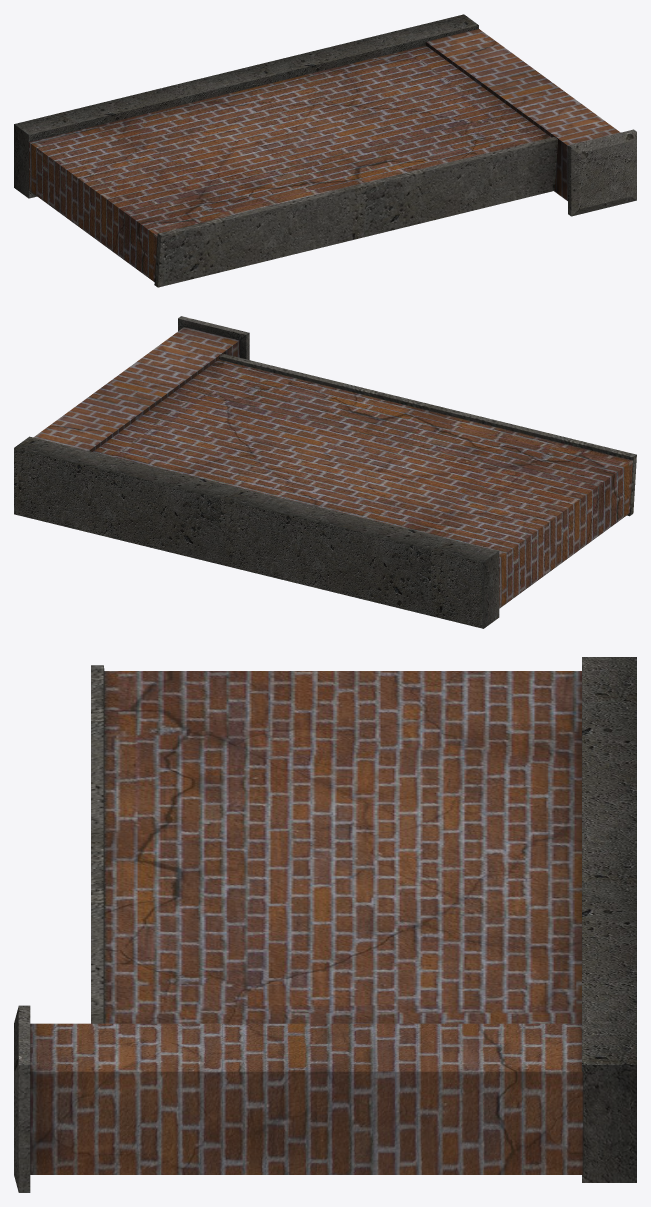
File: 10061_Wall_SG_V2_Iterations-2.obj
The picture shows the model from 3 angles, top to bottom: view 1: azimuth 30°, elevation 25°; view 2: azimuth 150°, elevation 25°; view 3: azimuth 270°, elevation 25°; orthographic projection. The views are drawn at different scales.
Visible parts, largest first — view 1: 10061_Wall_SG_V1; view 2: 10061_Wall_SG_V1; view 3: 10061_Wall_SG_V1.
Part boxes in pixels (x1,y1,x2,y2): 10061_Wall_SG_V1: [14, 14, 636, 287]; 10061_Wall_SG_V1: [14, 316, 636, 628]; 10061_Wall_SG_V1: [14, 657, 636, 1192].
Size of the model in its own units: 382 by 54.92 by 243.
Materials: 1 (1 with a texture image).
